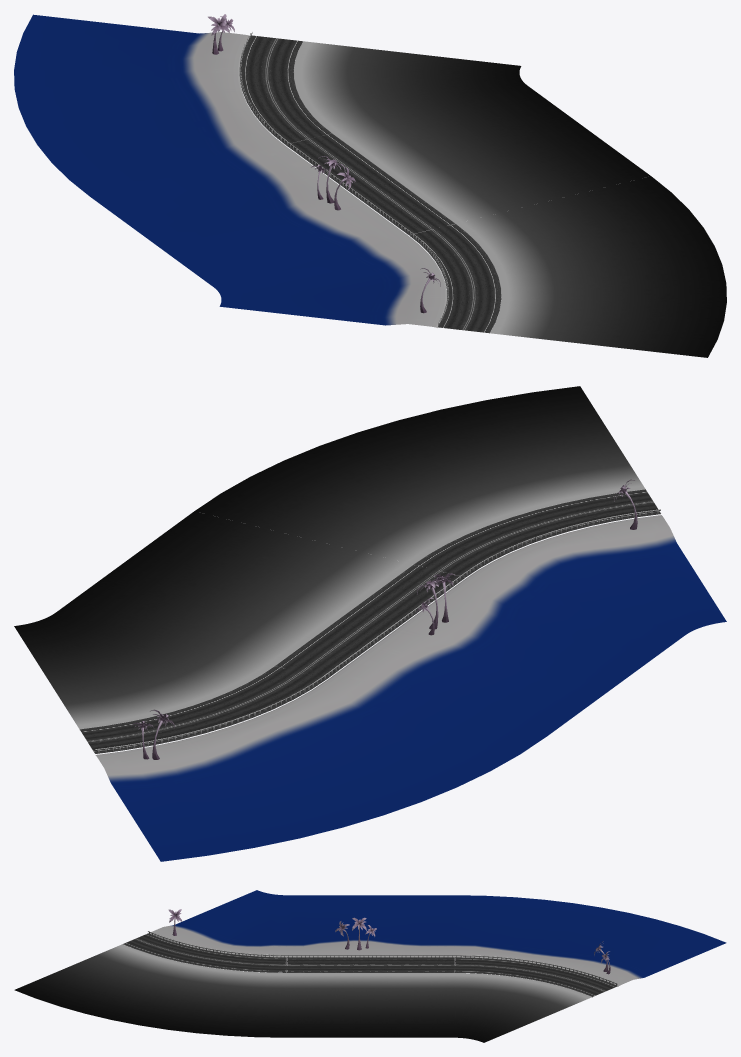
The model's file is miami_road_006.FBX.
The picture shows the model from 3 angles, top to bottom: view 1: azimuth 30°, elevation 25°; view 2: azimuth 150°, elevation 25°; view 3: azimuth 270°, elevation 25°; orthographic projection. The views are drawn at different scales.
Parts seen in each view (by area): view 1: Plane032, Plane033, Plane029, Plane028, Plane027; view 2: Plane032, Plane033, Plane029, Plane028, Plane027; view 3: Plane033, Plane032, Plane028, Plane029, Plane027, Group018.
Boxes of the visible parts, x1=… form: Plane032: x1=14, y1=14, x2=527, y2=196; Plane033: x1=214, y1=176, x2=726, y2=357; Plane029: x1=90, y1=145, x2=407, y2=286; Plane028: x1=332, y1=85, x2=650, y2=223; Plane027: x1=285, y1=133, x2=455, y2=234; Plane032: x1=14, y1=612, x2=546, y2=861; Plane033: x1=194, y1=386, x2=726, y2=635; Plane029: x1=328, y1=578, x2=684, y2=736; Plane028: x1=56, y1=511, x2=412, y2=665; Plane027: x1=275, y1=564, x2=465, y2=678; Plane033: x1=14, y1=890, x2=286, y2=1037; Plane032: x1=454, y1=895, x2=726, y2=1042; Plane028: x1=286, y1=973, x2=454, y2=1037; Plane029: x1=286, y1=895, x2=454, y2=957; Plane027: x1=286, y1=957, x2=454, y2=972; Group018: x1=286, y1=955, x2=454, y2=957.
Bounding box in the file's own units: 3511 × 344 × 6797.
